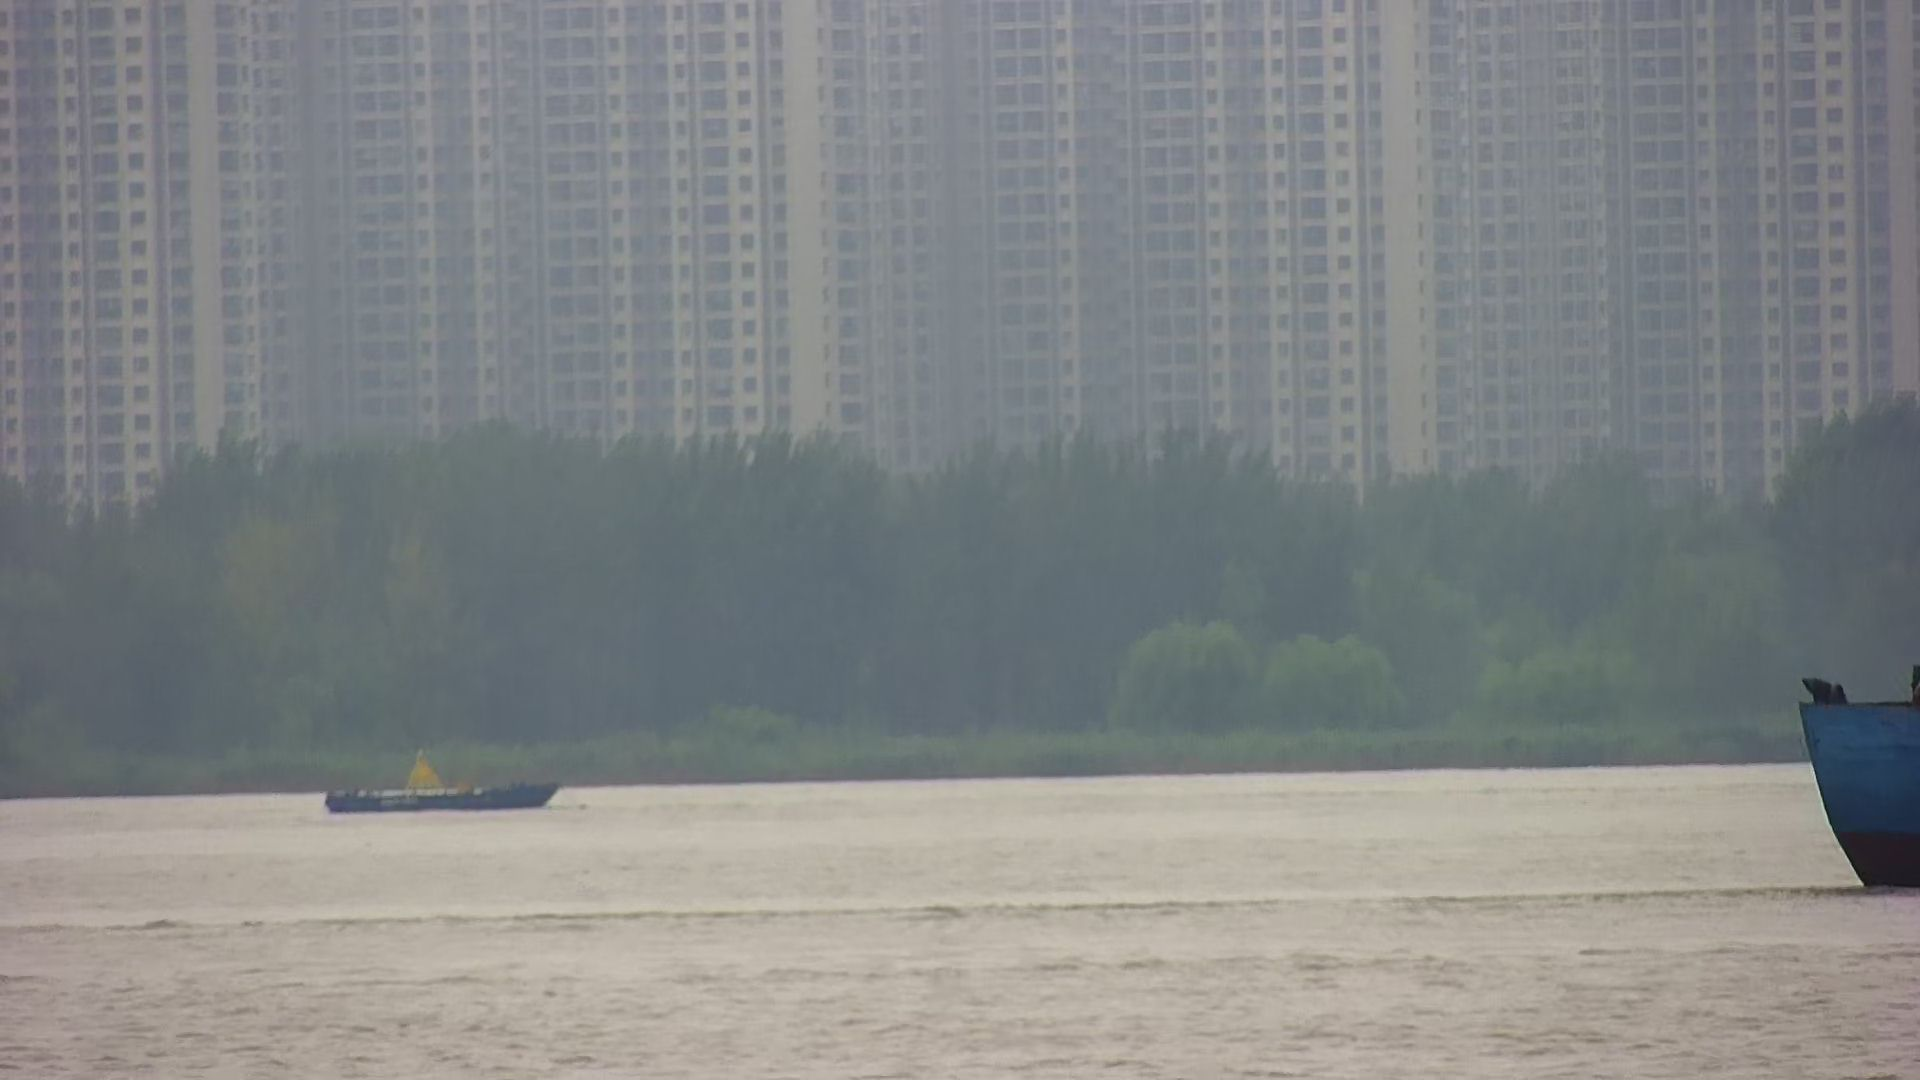boat: (323, 746, 564, 811)
ship: (1789, 663, 1920, 894)
